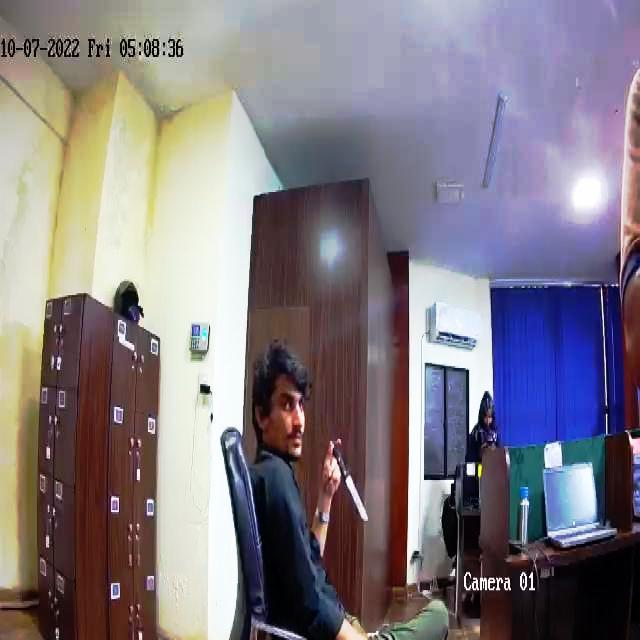Knife: (328, 444, 377, 528)
